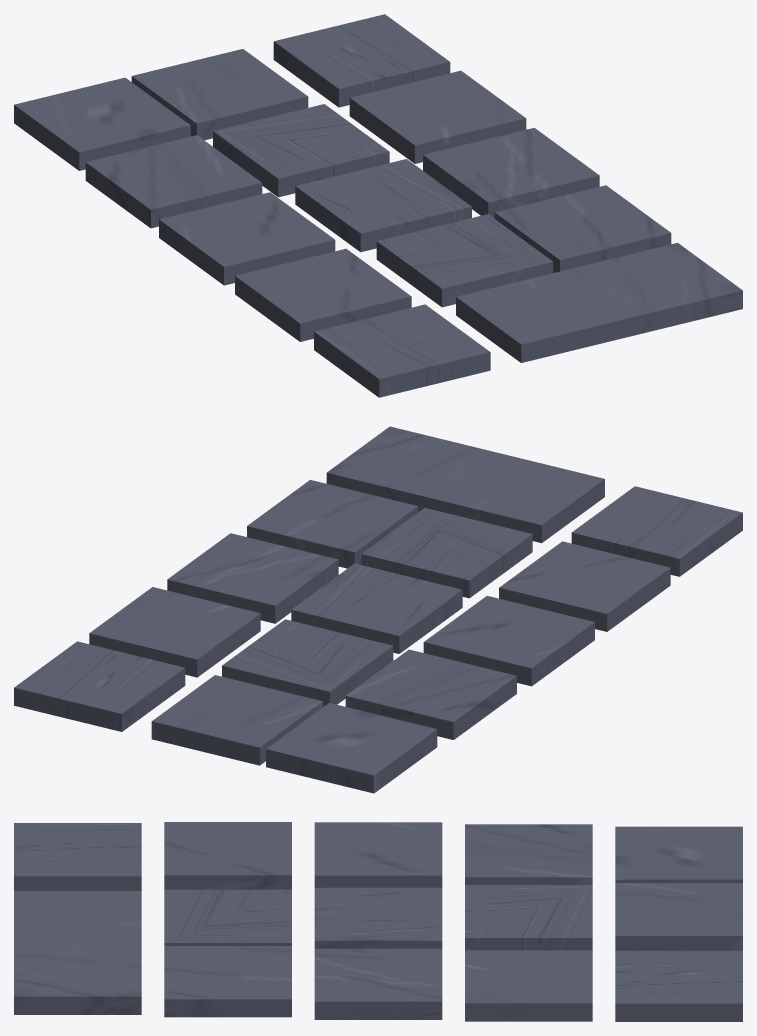
The model's file is dojo_ceremonial_stones_lod1.glb.
3 renders of one model, top to bottom at view 1: azimuth 30°, elevation 25°; view 2: azimuth 150°, elevation 25°; view 3: azimuth 270°, elevation 25°, orthographic. The views are drawn at different scales.
Visible parts, largest first — view 1: dojo_ceremonial_stones_024, dojo_ceremonial_stones_026, dojo_ceremonial_stones_014, dojo_ceremonial_stones_020, dojo_ceremonial_stones_018, dojo_ceremonial_stones_004, dojo_ceremonial_stones_012, dojo_ceremonial_stones_006, dojo_ceremonial_stones_010, dojo_ceremonial_stones_000, dojo_ceremonial_stones_008, dojo_ceremonial_stones_016 (+3 smaller); view 2: dojo_ceremonial_stones_000, dojo_ceremonial_stones_004, dojo_ceremonial_stones_006, dojo_ceremonial_stones_012, dojo_ceremonial_stones_018, dojo_ceremonial_stones_010, dojo_ceremonial_stones_002, dojo_ceremonial_stones_024, dojo_ceremonial_stones_026, dojo_ceremonial_stones_020, dojo_ceremonial_stones_014, dojo_ceremonial_stones_016 (+3 smaller); view 3: dojo_ceremonial_stones_016, dojo_ceremonial_stones_004, dojo_ceremonial_stones_010, dojo_ceremonial_stones_022, dojo_ceremonial_stones_028, dojo_ceremonial_stones_002, dojo_ceremonial_stones_018, dojo_ceremonial_stones_024, dojo_ceremonial_stones_012, dojo_ceremonial_stones_008, dojo_ceremonial_stones_014, dojo_ceremonial_stones_006 (+3 smaller).
Part boxes in pixels (x1=…): dojo_ceremonial_stones_024: x1=314, y1=304, x2=490, y2=397; dojo_ceremonial_stones_026: x1=456, y1=270, x2=632, y2=362; dojo_ceremonial_stones_014: x1=295, y1=159, x2=471, y2=252; dojo_ceremonial_stones_020: x1=376, y1=214, x2=553, y2=307; dojo_ceremonial_stones_018: x1=235, y1=248, x2=411, y2=341; dojo_ceremonial_stones_004: x1=273, y1=14, x2=450, y2=107; dojo_ceremonial_stones_012: x1=159, y1=192, x2=335, y2=285; dojo_ceremonial_stones_006: x1=85, y1=135, x2=262, y2=228; dojo_ceremonial_stones_010: x1=349, y1=70, x2=526, y2=163; dojo_ceremonial_stones_000: x1=14, y1=77, x2=190, y2=170; dojo_ceremonial_stones_008: x1=213, y1=104, x2=389, y2=197; dojo_ceremonial_stones_016: x1=423, y1=127, x2=599, y2=218; dojo_ceremonial_stones_000: x1=266, y1=703, x2=437, y2=793; dojo_ceremonial_stones_004: x1=14, y1=641, x2=185, y2=731; dojo_ceremonial_stones_006: x1=345, y1=649, x2=516, y2=739; dojo_ceremonial_stones_012: x1=423, y1=596, x2=594, y2=686; dojo_ceremonial_stones_018: x1=499, y1=541, x2=670, y2=631; dojo_ceremonial_stones_010: x1=89, y1=587, x2=260, y2=677; dojo_ceremonial_stones_002: x1=151, y1=675, x2=322, y2=765; dojo_ceremonial_stones_024: x1=571, y1=486, x2=742, y2=576; dojo_ceremonial_stones_026: x1=433, y1=452, x2=604, y2=543; dojo_ceremonial_stones_020: x1=361, y1=508, x2=532, y2=598; dojo_ceremonial_stones_014: x1=291, y1=563, x2=462, y2=653; dojo_ceremonial_stones_016: x1=167, y1=533, x2=338, y2=623; dojo_ceremonial_stones_016: x1=314, y1=948, x2=442, y2=1019; dojo_ceremonial_stones_004: x1=615, y1=950, x2=742, y2=1021; dojo_ceremonial_stones_010: x1=465, y1=950, x2=592, y2=1021; dojo_ceremonial_stones_022: x1=164, y1=946, x2=291, y2=1017; dojo_ceremonial_stones_028: x1=14, y1=943, x2=141, y2=1014; dojo_ceremonial_stones_002: x1=615, y1=883, x2=742, y2=950; dojo_ceremonial_stones_018: x1=164, y1=822, x2=291, y2=889; dojo_ceremonial_stones_024: x1=14, y1=823, x2=141, y2=890; dojo_ceremonial_stones_012: x1=314, y1=822, x2=442, y2=887; dojo_ceremonial_stones_008: x1=465, y1=885, x2=592, y2=950; dojo_ceremonial_stones_014: x1=314, y1=887, x2=442, y2=948; dojo_ceremonial_stones_006: x1=465, y1=824, x2=592, y2=884.
Bounding box in the file's own units: 4.72 × 0.22 × 8.
Materials: 1 (1 with a texture image).
